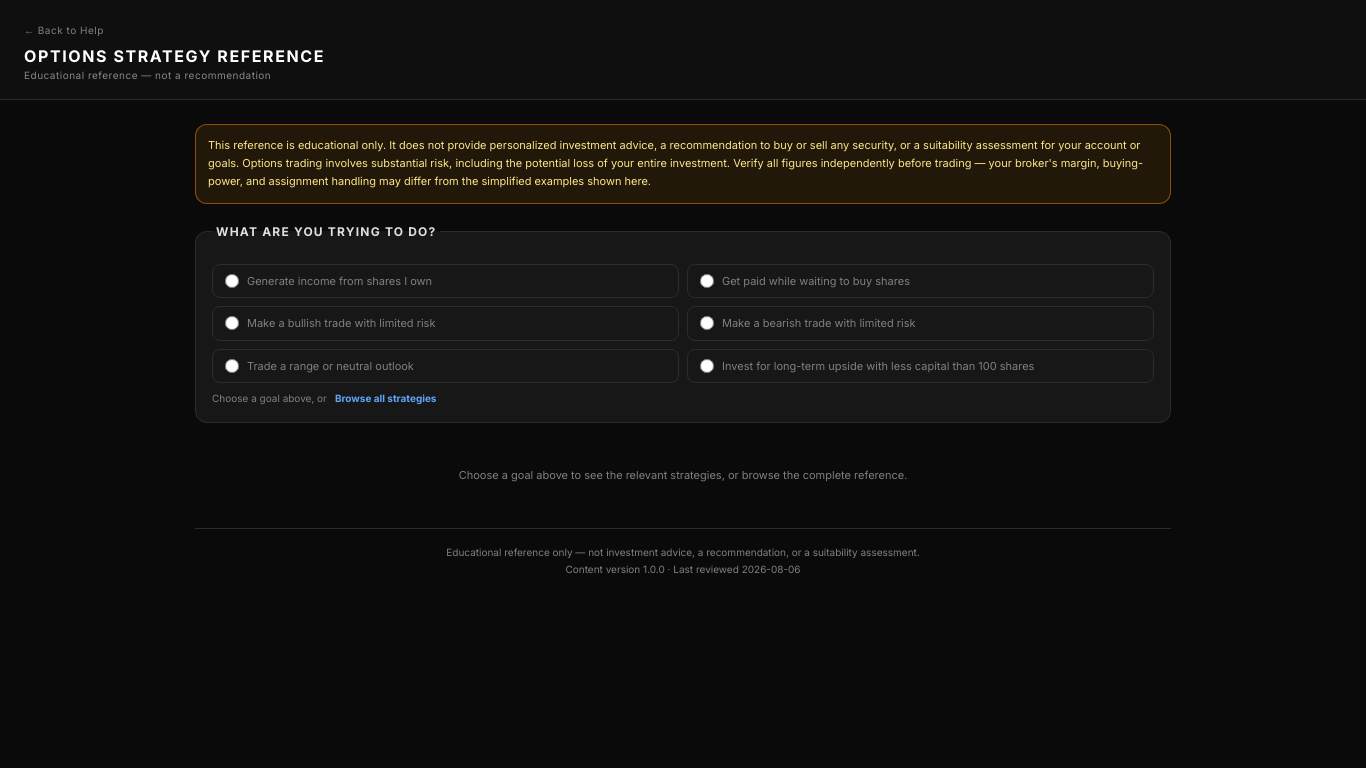
HELP-0001: Options Strategy Reference page › goal selection and filtered card rendering › selecting a goal narrows the card grid to exactly that goal's strategies
The image size is (1366, 768).
What coordinates should you click on to do the following:
click the radio button labelled "Make a bearish trade with limited risk"
I would click on:
 (707, 323)
Its box is x1=700 y1=316 x2=714 y2=330.
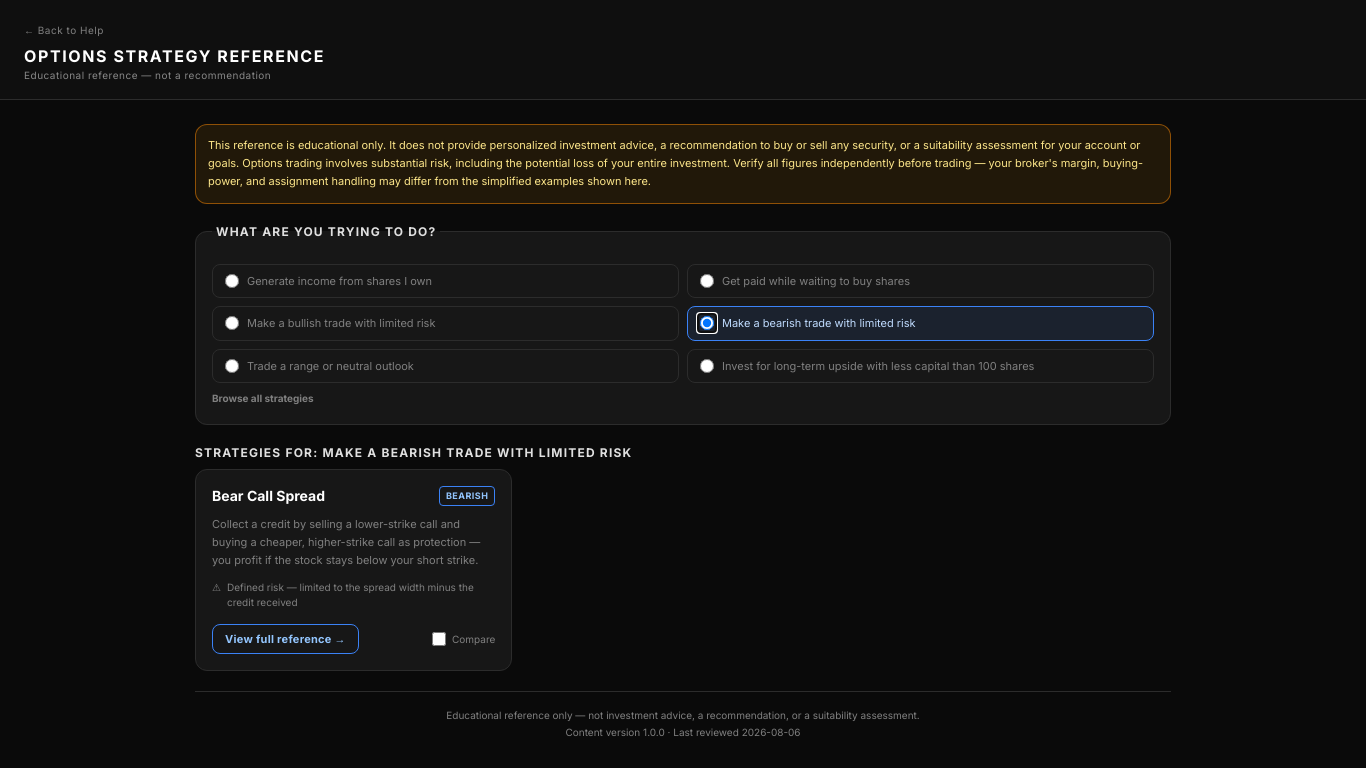
Now the number of buttons "View full reference →" is 1, box x1=212 y1=624 x2=359 y2=654
Now the heading "Bear Call Spread" is shown, box x1=212 y1=486 x2=325 y2=506
